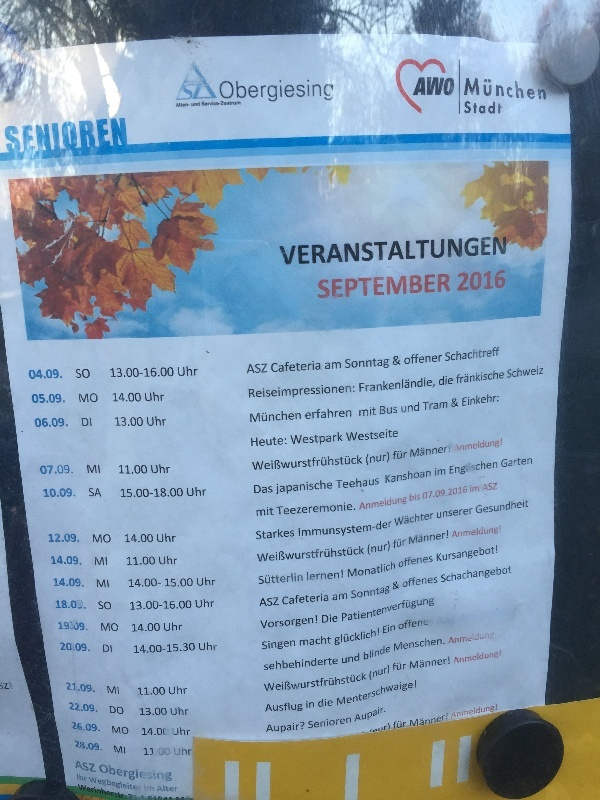text: (17, 117, 32, 155), (33, 117, 48, 155), (49, 117, 64, 155), (65, 117, 80, 155), (81, 117, 96, 155), (97, 117, 112, 155), (113, 117, 128, 155), (4, 117, 16, 155), (289, 237, 304, 266), (305, 237, 320, 266), (321, 237, 336, 266), (337, 237, 352, 266), (353, 237, 368, 266), (369, 237, 384, 266), (385, 237, 400, 266), (401, 237, 416, 266), (417, 237, 432, 266), (433, 237, 448, 266), (449, 237, 464, 266), (465, 237, 480, 266), (481, 237, 496, 266), (353, 595, 368, 624), (369, 595, 384, 624), (385, 595, 400, 624), (401, 595, 416, 624), (417, 595, 432, 624), (401, 680, 417, 707), (321, 273, 336, 300), (337, 273, 352, 300), (353, 273, 368, 300), (369, 273, 384, 300), (385, 273, 400, 300), (401, 273, 416, 300), (417, 273, 432, 300), (433, 273, 448, 300), (337, 680, 352, 707), (353, 680, 368, 707), (369, 680, 384, 707), (385, 680, 400, 707), (465, 269, 480, 294), (481, 269, 496, 294), (225, 78, 240, 102), (241, 78, 256, 102), (257, 78, 272, 102), (273, 78, 288, 102), (289, 78, 304, 102), (305, 78, 320, 102), (481, 78, 496, 101), (497, 78, 512, 101), (513, 78, 528, 101), (529, 78, 544, 101), (466, 78, 480, 101), (497, 565, 513, 585), (449, 545, 464, 566), (465, 545, 480, 566), (481, 545, 496, 566), (273, 673, 288, 694), (289, 673, 304, 694), (305, 673, 320, 694), (321, 673, 336, 694), (337, 673, 352, 694), (321, 78, 334, 102), (113, 764, 128, 784), (129, 764, 144, 784), (145, 764, 160, 784), (305, 520, 320, 540), (321, 520, 336, 540), (337, 520, 352, 540), (353, 520, 368, 540), (369, 520, 384, 540), (353, 560, 368, 580), (369, 560, 384, 580), (449, 565, 464, 585), (465, 565, 480, 585), (481, 565, 496, 585), (337, 627, 352, 647), (353, 627, 368, 647), (353, 673, 367, 694), (278, 237, 288, 266), (497, 237, 507, 266), (342, 595, 352, 624), (433, 78, 448, 97), (257, 384, 272, 403), (273, 384, 288, 403), (289, 384, 304, 403), (305, 384, 320, 403), (321, 384, 336, 403), (337, 384, 352, 403), (177, 82, 192, 100), (193, 82, 208, 100), (465, 459, 480, 477), (481, 459, 496, 477), (369, 706, 384, 724), (369, 665, 384, 683), (433, 530, 449, 546), (433, 712, 449, 728), (369, 376, 384, 393), (385, 376, 400, 393), (401, 376, 416, 393), (417, 376, 432, 393), (401, 467, 416, 484), (289, 479, 304, 496), (305, 479, 320, 496), (257, 546, 272, 563), (273, 546, 288, 563), (289, 546, 304, 563), (305, 546, 320, 563), (321, 546, 336, 563), (337, 546, 352, 563), (369, 645, 384, 662), (450, 459, 464, 477), (419, 78, 432, 97), (97, 777, 112, 793), (113, 777, 128, 793), (100, 764, 112, 784), (161, 764, 173, 784), (257, 455, 272, 471), (273, 455, 288, 471), (289, 455, 304, 471), (305, 455, 320, 471), (321, 455, 336, 471), (337, 455, 352, 471), (369, 496, 384, 512), (385, 496, 400, 512), (481, 499, 496, 515), (497, 499, 512, 515), (513, 499, 528, 515), (417, 530, 432, 546), (417, 575, 432, 591), (465, 703, 480, 719), (481, 703, 496, 719), (417, 712, 432, 728), (289, 722, 305, 737), (386, 467, 400, 484), (417, 467, 431, 484), (437, 545, 448, 566), (497, 269, 506, 294), (81, 785, 96, 800), (97, 785, 112, 800), (449, 347, 464, 362), (465, 347, 480, 362), (481, 347, 496, 362), (369, 451, 384, 466), (465, 438, 480, 453), (481, 438, 496, 453), (369, 541, 384, 556), (401, 554, 416, 569), (417, 554, 432, 569), (273, 615, 288, 630), (289, 615, 304, 630), (401, 637, 416, 652), (417, 637, 432, 652), (273, 722, 288, 737), (273, 657, 288, 672), (289, 657, 304, 672), (305, 657, 320, 672), (321, 657, 336, 672), (402, 575, 416, 591), (385, 560, 396, 580), (369, 627, 380, 647), (465, 370, 480, 384), (481, 370, 496, 384), (321, 407, 336, 421), (337, 407, 352, 421), (305, 433, 320, 447), (321, 433, 336, 447), (465, 393, 480, 407), (481, 393, 496, 407), (289, 502, 304, 516), (305, 502, 320, 516), (321, 502, 336, 516), (337, 502, 352, 516), (401, 512, 416, 526), (417, 512, 432, 526), (465, 525, 480, 539), (481, 525, 496, 539), (353, 585, 368, 599), (369, 585, 384, 599), (465, 650, 480, 664), (481, 650, 496, 664), (129, 777, 142, 793), (305, 360, 321, 373), (321, 479, 333, 496), (353, 546, 365, 563), (357, 706, 368, 724), (306, 407, 320, 421), (465, 101, 480, 114), (481, 101, 496, 114), (273, 360, 288, 373), (289, 360, 304, 373), (257, 410, 272, 423), (273, 410, 288, 423), (353, 429, 368, 442), (369, 429, 384, 442), (417, 445, 432, 458), (433, 445, 448, 458), (337, 476, 352, 489), (353, 476, 368, 489), (273, 573, 288, 586), (289, 592, 304, 605), (305, 592, 320, 605), (305, 615, 318, 630), (273, 639, 288, 652), (401, 617, 416, 630), (417, 617, 432, 630), (465, 631, 480, 644), (417, 658, 432, 671), (433, 658, 448, 671), (321, 717, 336, 730), (337, 717, 352, 730), (81, 761, 97, 773), (263, 673, 272, 694), (277, 479, 288, 496), (291, 433, 304, 447), (385, 429, 399, 442), (289, 573, 303, 586), (481, 631, 495, 644), (33, 368, 48, 380), (49, 368, 64, 380), (49, 417, 64, 429), (81, 392, 96, 404), (145, 642, 160, 654), (161, 642, 176, 654), (177, 642, 192, 654), (113, 785, 125, 800), (417, 353, 432, 365), (513, 366, 528, 378), (529, 366, 544, 378), (433, 399, 448, 411), (513, 457, 528, 469), (257, 528, 272, 540), (273, 528, 288, 540), (321, 569, 336, 581), (260, 615, 272, 630), (433, 637, 445, 652), (289, 410, 302, 423), (259, 573, 272, 586), (451, 631, 464, 644), (402, 402, 416, 414), (276, 502, 288, 516), (33, 394, 48, 405), (49, 394, 64, 405), (49, 465, 64, 476), (49, 488, 64, 499), (49, 533, 64, 544), (65, 533, 80, 544), (81, 683, 96, 694), (81, 702, 96, 713), (81, 722, 96, 733), (81, 742, 96, 753), (113, 726, 128, 737), (113, 367, 128, 378), (129, 367, 144, 378), (145, 367, 160, 378), (145, 392, 160, 403), (353, 358, 368, 369), (369, 358, 384, 369), (449, 486, 464, 497), (449, 508, 464, 519), (305, 636, 320, 647), (353, 455, 363, 471), (385, 520, 393, 540), (454, 703, 464, 719), (35, 417, 48, 429), (307, 569, 320, 581), (308, 717, 320, 730), (66, 683, 80, 694), (82, 417, 96, 428), (161, 367, 175, 378), (178, 366, 192, 377), (193, 486, 207, 497), (65, 556, 80, 566), (65, 578, 80, 588), (65, 600, 80, 610), (65, 622, 80, 632), (145, 728, 160, 738), (145, 601, 160, 611), (161, 601, 176, 611), (177, 601, 192, 611), (129, 578, 144, 588), (145, 578, 160, 588), (161, 578, 176, 588), (177, 578, 192, 588), (129, 488, 144, 498), (145, 488, 160, 498), (161, 488, 176, 498), (129, 465, 144, 475), (129, 417, 144, 427), (113, 393, 128, 403), (161, 556, 176, 566), (257, 437, 272, 447), (257, 507, 272, 517), (273, 703, 288, 713), (209, 82, 217, 100), (145, 623, 161, 632), (161, 534, 177, 543), (257, 485, 273, 494), (385, 405, 398, 416), (451, 398, 464, 409), (369, 476, 380, 489), (97, 534, 111, 544), (130, 601, 144, 611), (273, 437, 287, 447), (454, 525, 464, 539), (441, 565, 448, 585), (322, 614, 336, 624), (289, 703, 303, 713), (360, 376, 368, 393), (65, 643, 80, 652), (97, 579, 112, 588), (145, 748, 160, 757), (145, 709, 160, 718), (145, 688, 160, 697), (129, 557, 144, 566), (129, 534, 144, 543), (177, 728, 192, 737), (249, 384, 256, 403), (196, 599, 208, 610), (257, 363, 268, 375), (405, 353, 416, 365), (51, 556, 64, 566), (99, 601, 112, 611), (115, 417, 128, 427), (129, 393, 142, 403), (147, 417, 160, 427), (262, 639, 272, 652), (177, 749, 193, 757), (459, 269, 464, 294), (65, 488, 76, 499), (69, 702, 80, 713), (161, 464, 172, 475), (177, 686, 188, 697), (437, 508, 448, 519), (321, 636, 332, 647), (219, 78, 224, 102), (81, 368, 91, 380), (134, 642, 144, 654), (502, 457, 512, 469), (436, 488, 448, 498), (321, 699, 333, 709), (342, 654, 352, 666), (435, 467, 448, 476), (449, 78, 455, 97), (114, 747, 128, 755), (89, 777, 96, 793), (409, 530, 416, 546), (456, 650, 464, 664), (53, 578, 64, 588), (385, 625, 396, 635), (113, 706, 125, 715), (132, 623, 144, 632), (177, 708, 189, 717), (433, 353, 442, 365), (423, 399, 432, 411), (161, 786, 176, 793), (457, 438, 464, 453), (265, 657, 272, 672), (321, 592, 329, 605), (307, 702, 320, 710), (385, 645, 391, 662), (299, 520, 304, 540), (65, 465, 74, 476), (97, 557, 108, 566), (101, 623, 112, 632), (145, 557, 156, 566), (151, 464, 160, 475), (197, 578, 208, 587), (199, 641, 208, 652), (209, 641, 218, 652), (337, 593, 348, 602), (465, 508, 474, 519), (457, 370, 464, 384), (497, 370, 504, 384), (225, 100, 241, 106), (362, 496, 368, 512), (401, 496, 407, 512), (410, 712, 416, 728), (289, 639, 296, 652), (209, 100, 224, 106), (161, 748, 171, 757), (161, 728, 170, 738), (119, 465, 128, 475), (439, 376, 448, 386), (497, 438, 503, 453), (262, 598, 272, 607), (423, 491, 432, 501), (385, 541, 391, 556), (394, 637, 400, 652), (385, 665, 390, 683), (40, 465, 48, 476), (72, 722, 80, 733), (325, 362, 336, 370), (337, 433, 343, 447), (393, 449, 400, 461), (401, 449, 408, 461), (337, 569, 344, 581), (394, 512, 400, 526), (393, 661, 400, 673), (353, 654, 360, 666), (449, 273, 452, 300), (81, 643, 90, 652), (87, 465, 96, 474), (145, 534, 154, 543), (56, 600, 64, 610), (81, 622, 89, 632), (120, 488, 128, 498), (360, 407, 368, 417), (369, 407, 377, 417), (348, 560, 352, 580), (433, 575, 438, 591), (250, 410, 256, 423), (346, 429, 352, 442), (410, 658, 416, 671), (209, 599, 216, 610), (169, 686, 176, 697), (485, 484, 496, 491), (385, 451, 390, 466), (103, 645, 112, 653), (209, 578, 217, 587), (250, 363, 256, 375), (289, 528, 295, 540), (401, 661, 407, 673), (89, 488, 96, 498), (497, 525, 502, 539), (385, 585, 390, 599), (393, 581, 400, 591), (497, 650, 502, 664), (364, 645, 368, 662), (97, 742, 103, 753), (193, 366, 199, 377), (346, 358, 352, 369), (394, 355, 400, 366), (394, 538, 400, 549), (401, 538, 407, 549), (497, 101, 502, 114), (411, 445, 416, 458), (283, 592, 288, 605), (252, 455, 256, 471), (476, 499, 480, 515), (161, 709, 168, 718), (273, 598, 280, 607), (471, 486, 480, 493), (393, 722, 400, 731), (177, 103, 192, 107), (58, 622, 64, 632), (177, 488, 183, 498), (161, 417, 167, 427), (145, 786, 155, 792), (410, 492, 416, 502), (433, 595, 435, 624), (353, 384, 356, 403), (113, 687, 120, 695), (81, 774, 88, 782), (43, 488, 48, 499), (187, 486, 192, 497), (318, 273, 320, 300), (113, 623, 119, 632), (138, 688, 144, 697), (401, 722, 407, 731), (449, 445, 453, 458), (433, 376, 436, 393), (81, 600, 86, 610), (97, 488, 102, 498), (251, 437, 256, 447), (76, 368, 80, 380), (508, 366, 512, 378), (545, 78, 547, 101), (161, 688, 166, 697), (171, 708, 176, 717), (497, 347, 500, 362), (269, 722, 272, 737), (97, 722, 101, 733), (76, 742, 80, 753), (161, 392, 165, 403), (385, 358, 389, 369), (380, 405, 384, 416), (300, 636, 304, 647), (193, 101, 200, 107), (497, 393, 500, 407), (353, 502, 356, 516), (497, 545, 499, 566), (81, 578, 85, 588), (107, 687, 112, 695), (449, 376, 453, 386), (268, 703, 272, 713), (202, 100, 208, 106), (29, 368, 32, 380), (65, 417, 68, 429), (60, 643, 64, 652), (97, 465, 101, 474), (140, 709, 144, 718), (193, 642, 196, 654), (172, 728, 176, 737), (77, 761, 80, 773), (417, 402, 420, 414), (529, 457, 532, 469), (497, 459, 499, 477), (385, 706, 387, 724), (465, 486, 468, 497), (337, 362, 341, 370), (93, 534, 96, 544), (145, 465, 148, 475), (78, 785, 80, 800), (446, 347, 448, 362), (366, 451, 368, 466), (417, 492, 420, 502), (125, 534, 128, 543), (157, 534, 160, 543), (333, 593, 336, 602), (449, 658, 451, 671), (97, 392, 99, 404), (77, 774, 80, 782), (142, 728, 144, 738), (433, 491, 435, 501), (110, 706, 112, 715), (254, 485, 256, 494), (174, 749, 176, 757), (529, 499, 530, 515), (497, 703, 498, 719), (367, 541, 368, 556), (399, 554, 400, 569), (433, 554, 434, 569), (337, 657, 338, 672), (177, 786, 179, 793), (463, 393, 464, 407), (433, 512, 434, 526), (351, 585, 352, 599), (335, 476, 336, 489), (399, 617, 400, 630), (433, 617, 434, 630), (79, 392, 80, 404), (65, 394, 66, 405), (97, 702, 98, 713), (129, 726, 130, 737), (111, 367, 112, 378), (81, 556, 82, 566), (193, 578, 194, 588), (159, 556, 160, 566), (177, 556, 178, 566), (273, 507, 274, 517), (337, 614, 338, 624), (383, 625, 384, 635), (319, 699, 320, 709), (95, 557, 96, 566), (127, 557, 128, 566), (159, 786, 160, 793), (497, 484, 498, 491), (191, 101, 192, 107)
